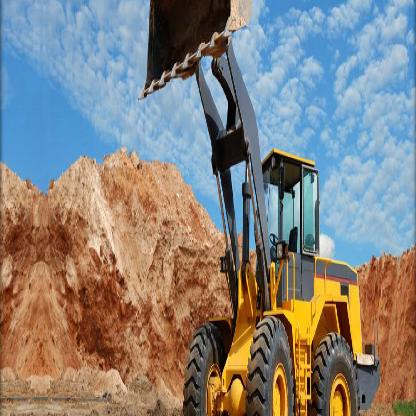bull_dozer/loader/grader: (133, 2, 385, 415)
